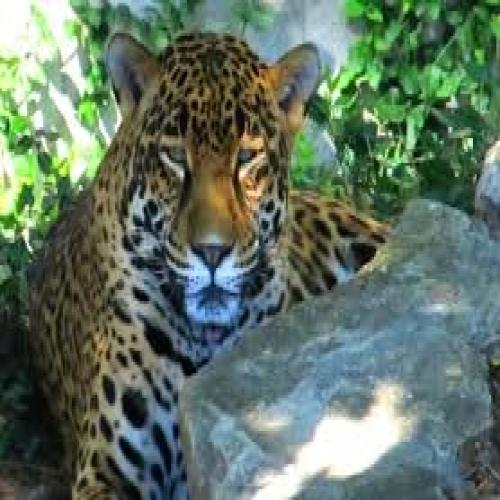jaguar_not-endangered: (53, 41, 346, 494)
